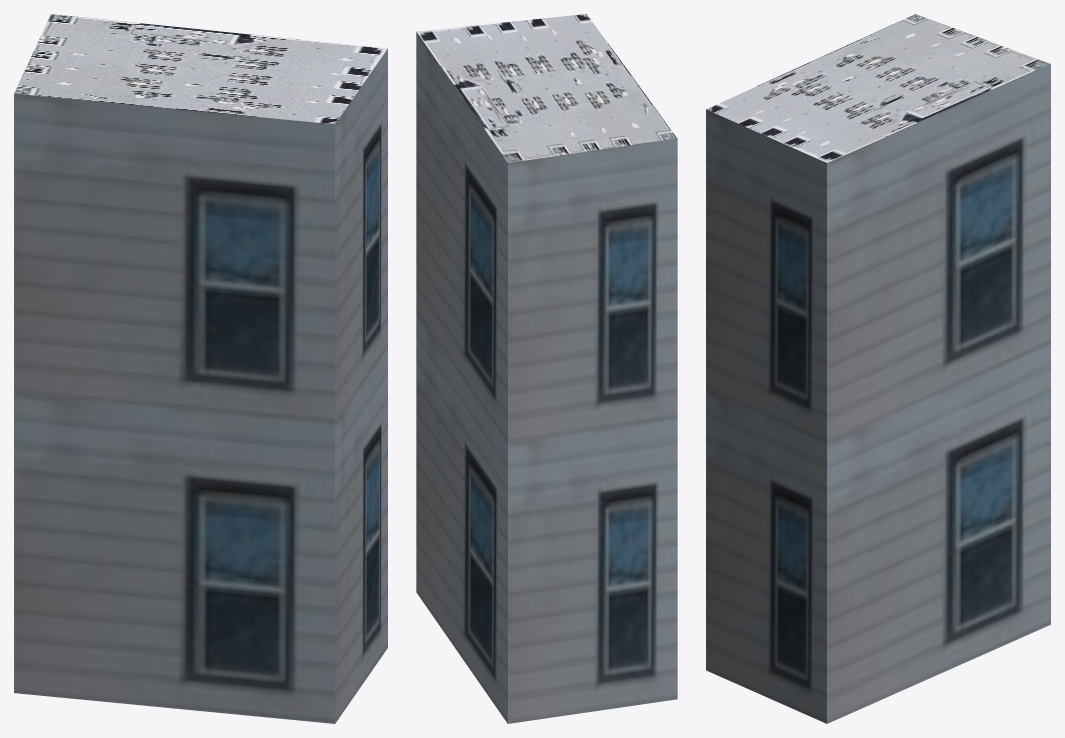
Rendered from ResTex__2530.fbx.
3 renders of one model, left to right at view 1: azimuth 30°, elevation 25°; view 2: azimuth 150°, elevation 25°; view 3: azimuth 270°, elevation 25°, orthographic. The views are drawn at different scales.
Visible parts, largest first — view 1: CityEngineMaterial_18_m, CityEngineMaterial_2_m; view 2: CityEngineMaterial_18_m, CityEngineMaterial_2_m; view 3: CityEngineMaterial_18_m, CityEngineMaterial_2_m.
Boxes of the visible parts, x1=… form: CityEngineMaterial_18_m: x1=14, y1=49, x2=387, y2=723; CityEngineMaterial_2_m: x1=14, y1=14, x2=387, y2=124; CityEngineMaterial_18_m: x1=416, y1=32, x2=677, y2=723; CityEngineMaterial_2_m: x1=416, y1=14, x2=676, y2=162; CityEngineMaterial_18_m: x1=706, y1=64, x2=1050, y2=723; CityEngineMaterial_2_m: x1=706, y1=14, x2=1050, y2=162.
Size of the model in its own units: 3.42 by 6 by 3.34.
Materials: 2 (2 with a texture image).
